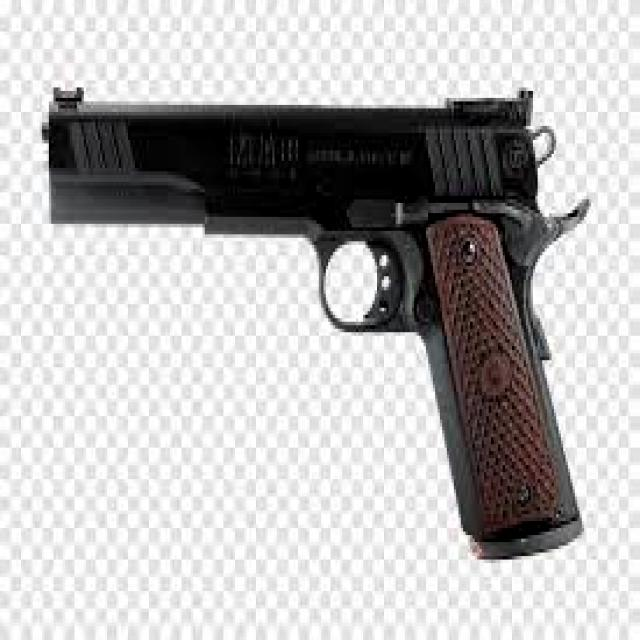semi automatic: (30, 60, 608, 576)
